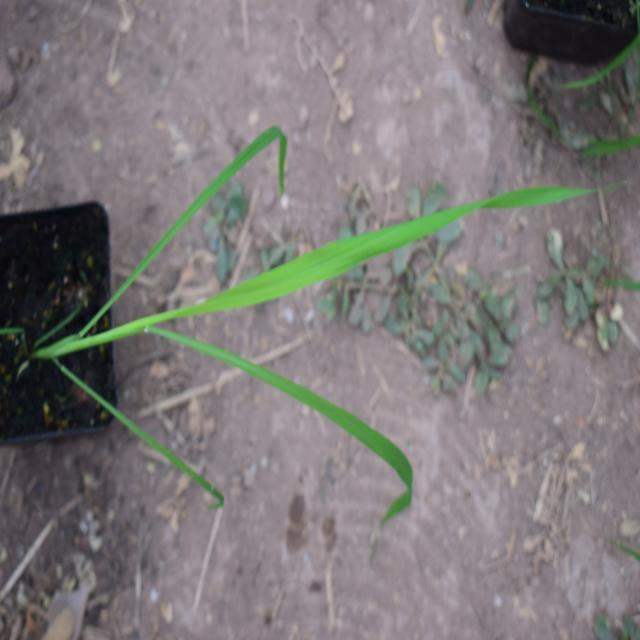barnyard_grass: (80, 129, 558, 495)
